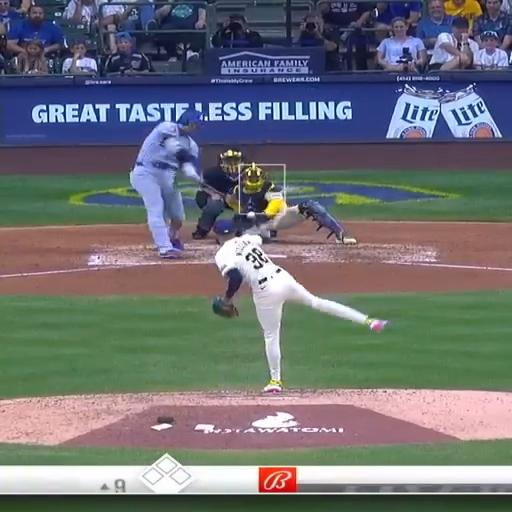bat: (194, 177, 246, 215)
